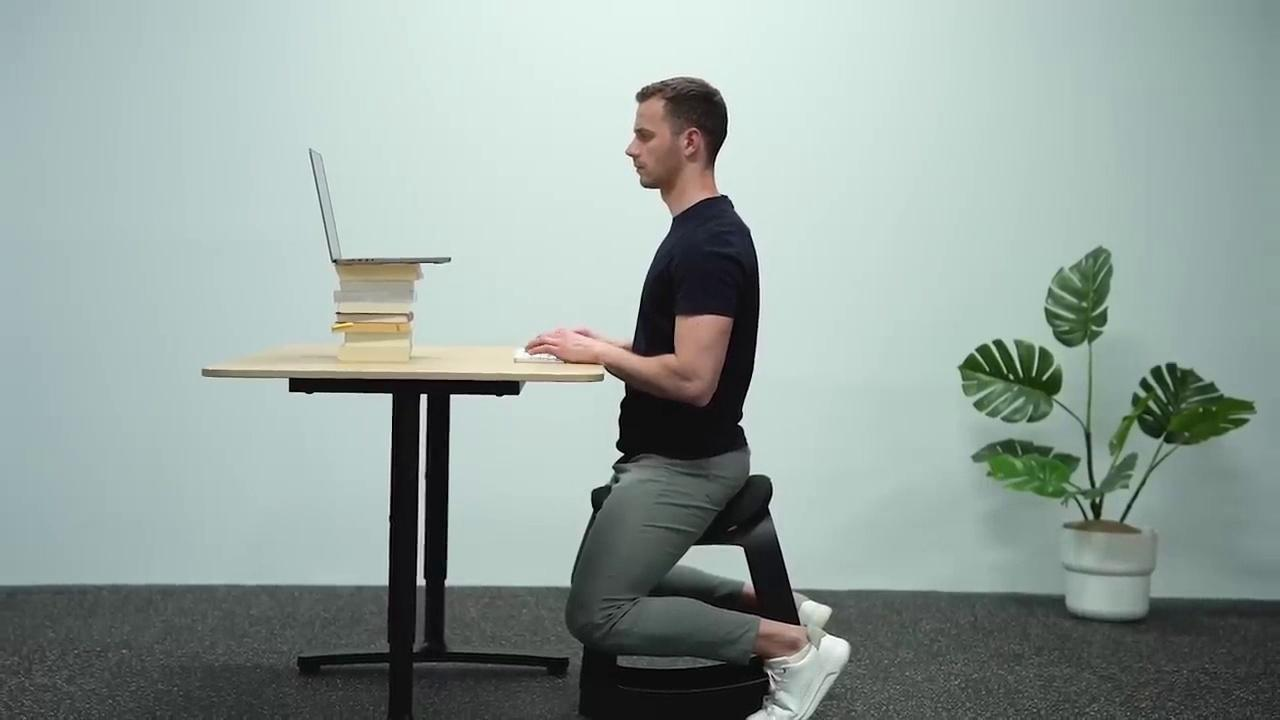GoodPosture: (526, 77, 850, 719)
